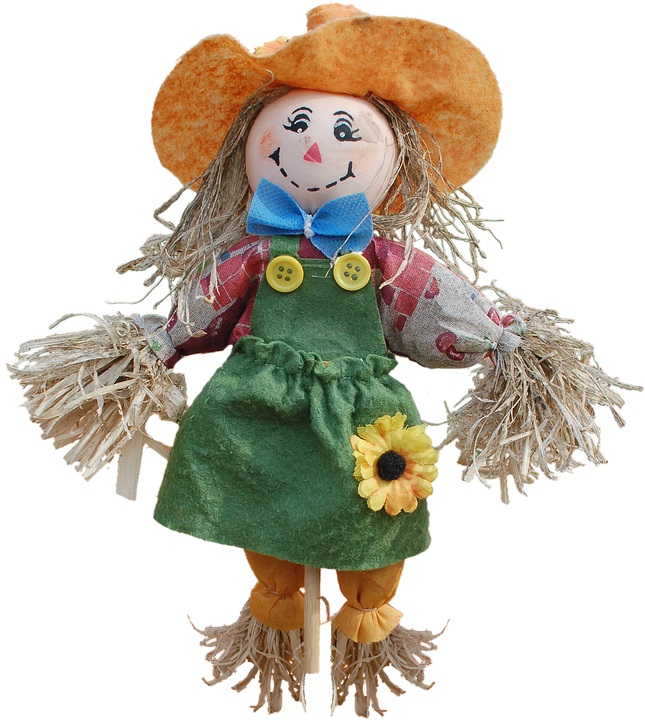person-like: (16, 4, 639, 719)
